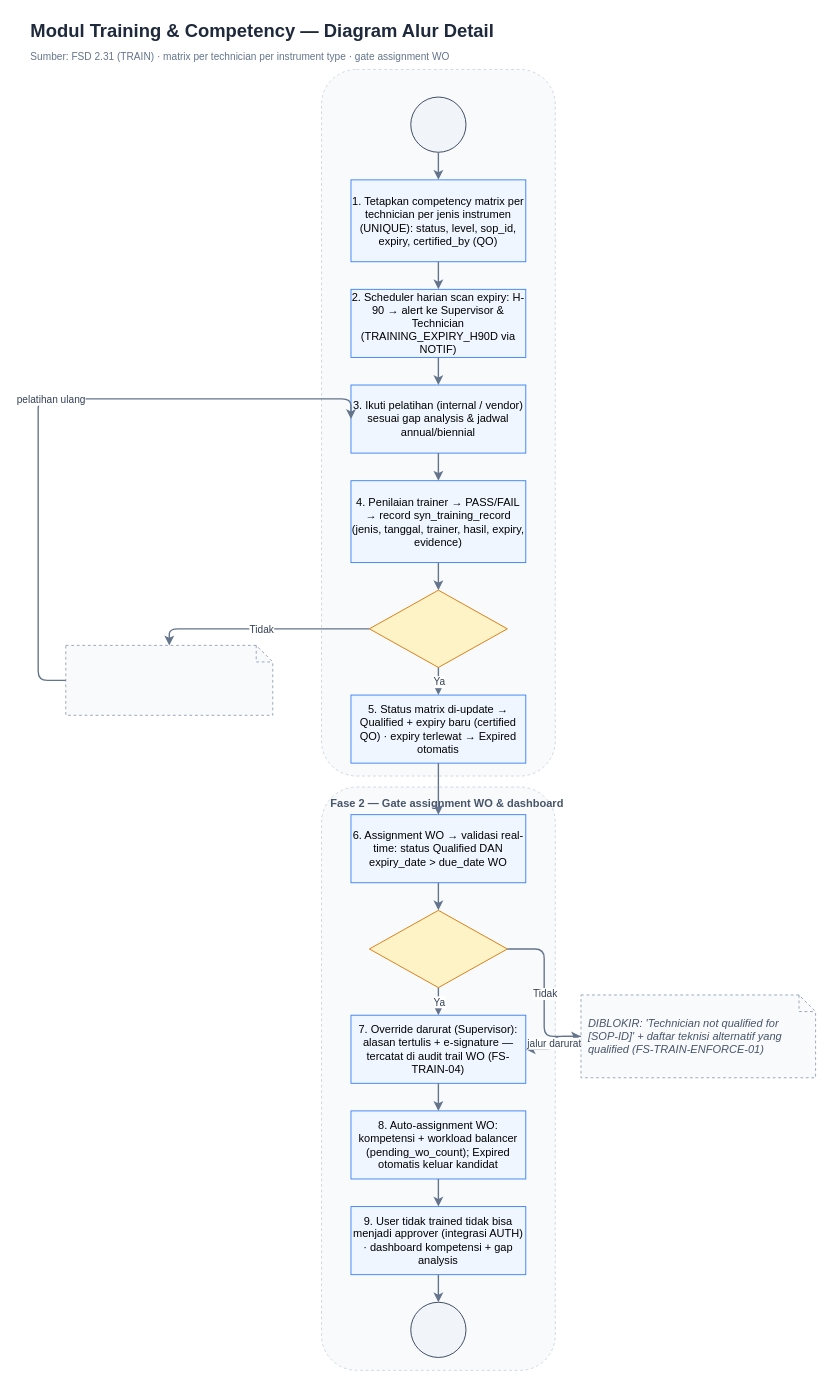
Image size: 832x1386. Some labels were removed from this diagram. Here are the shapes that lost their labels. From the top down, the box of each, then its label:
(410, 96, 466, 152): Mulai
(321, 69, 555, 776): Fase 1 — Matrix kompetensi & pelatihan
(368, 589, 507, 667): Assessment PASS?
(65, 644, 273, 715): FAIL → status tetap/turun (tidak qualified); gap dicatat untuk pelatihan ulang
(368, 909, 507, 988): Qualified?
(410, 1301, 466, 1357): Selesai
